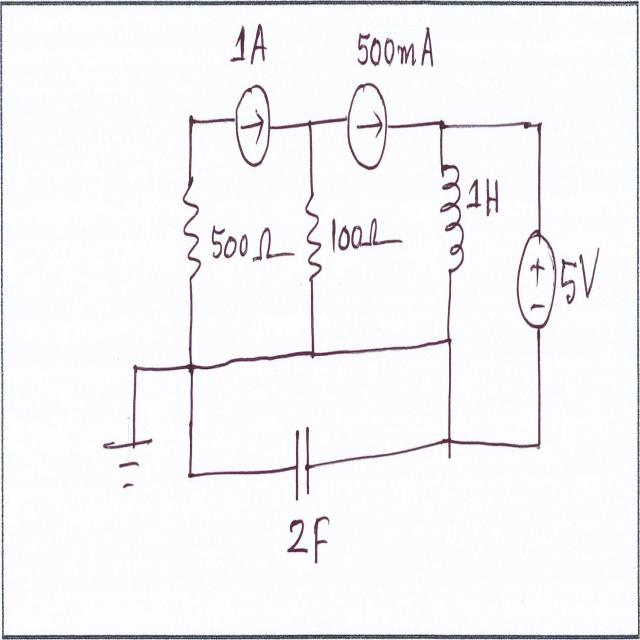capacitor: (292, 418, 312, 506)
current_source: (344, 76, 390, 173), (233, 76, 274, 176)
ground: (100, 433, 161, 502)
inductor: (436, 159, 466, 283)
resistor: (179, 168, 206, 290), (300, 190, 326, 289)
voltage_source: (513, 220, 560, 342)
